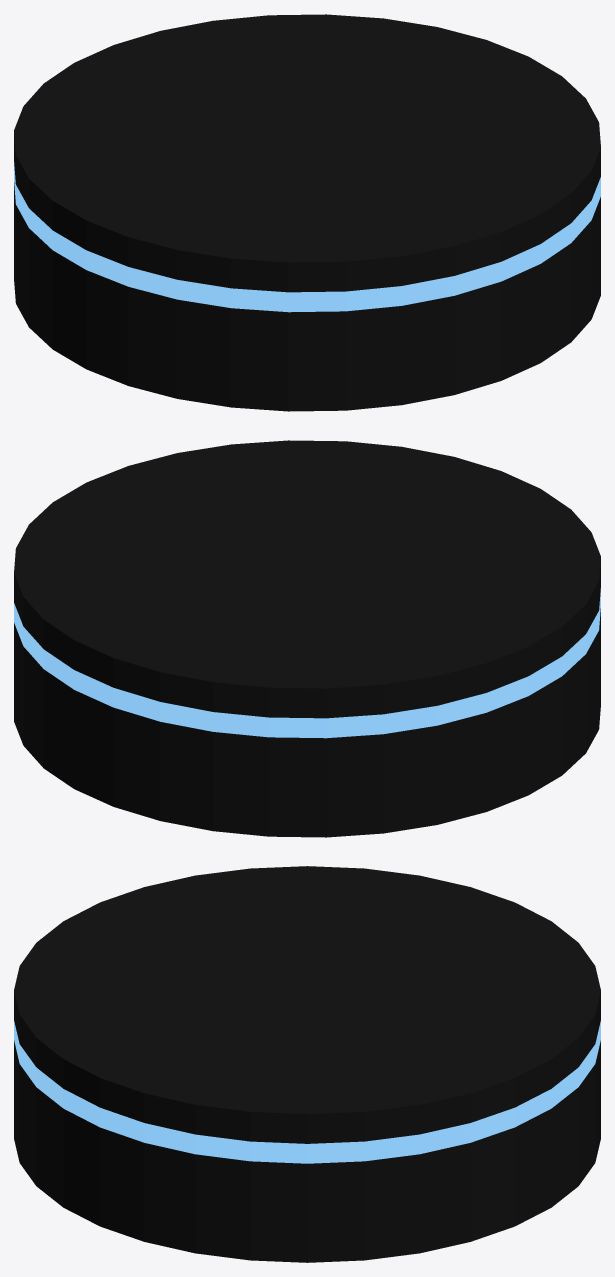
The model's file is bot.glb.
3 views of the same model, one above another, from view 1: azimuth 30°, elevation 25°; view 2: azimuth 150°, elevation 25°; view 3: azimuth 270°, elevation 25° (orthographic).
Visible parts, largest first — view 1: Cylinder; view 2: Cylinder; view 3: Cylinder.
Boxes of the visible parts, x1=… form: Cylinder: x1=14, y1=14, x2=600, y2=411; Cylinder: x1=14, y1=440, x2=600, y2=837; Cylinder: x1=14, y1=866, x2=600, y2=1262.
Size of the model in its own units: 1.16 by 0.3245 by 1.16.
